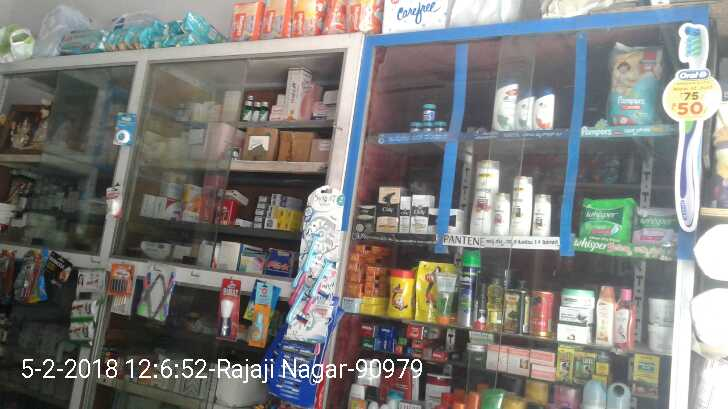beauty: (468, 154, 498, 241), (486, 75, 518, 133), (372, 185, 398, 234), (512, 173, 531, 239), (531, 83, 556, 131), (532, 191, 554, 238), (407, 190, 429, 235), (494, 194, 511, 238), (515, 85, 532, 126)
pharmacy: (601, 45, 665, 130), (567, 195, 633, 245), (632, 208, 681, 249), (411, 96, 440, 128)
